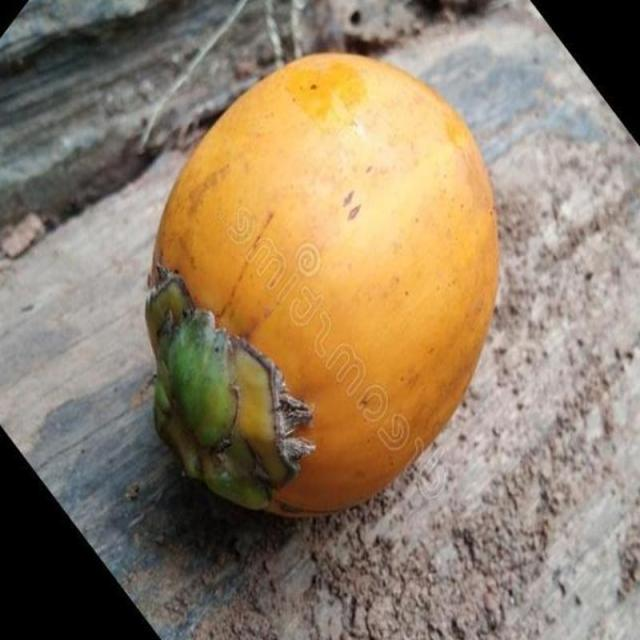good: (145, 53, 501, 521)
